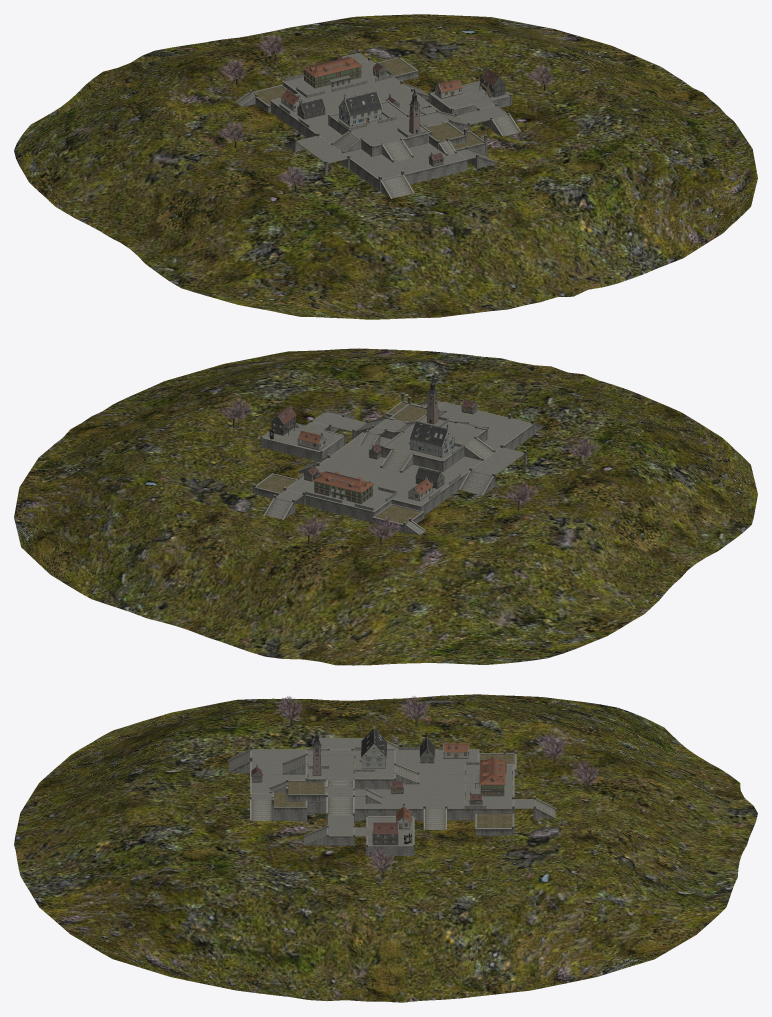
3 views of the same model, one above another, from view 1: azimuth 30°, elevation 25°; view 2: azimuth 150°, elevation 25°; view 3: azimuth 270°, elevation 25° (orthographic). The views are drawn at different scales.
Parts seen in each view (by area): view 1: Plane_0, Base_02_LOD0_0_1, mansion_LOD0_2_9, mansion_LOD0_3_10, Zone_A_House_Huge_A_LOD0_1_30; view 2: Plane_0, Base_02_LOD0_0_1, mansion_LOD0_2_9, mansion_LOD0_3_10, Zone_A_House_Huge_A_LOD0_1_30; view 3: Plane_0, Base_02_LOD0_0_1, mansion_LOD0_2_9.
Part boxes in pixels (x1=…): Plane_0: x1=14, y1=14, x2=757, y2=319; Base_02_LOD0_0_1: x1=236, y1=49, x2=521, y2=198; mansion_LOD0_2_9: x1=302, y1=56, x2=362, y2=86; mansion_LOD0_3_10: x1=303, y1=56, x2=362, y2=88; Zone_A_House_Huge_A_LOD0_1_30: x1=345, y1=91, x2=381, y2=115; Plane_0: x1=14, y1=348, x2=757, y2=665; Base_02_LOD0_0_1: x1=252, y1=392, x2=544, y2=535; mansion_LOD0_2_9: x1=312, y1=471, x2=374, y2=500; mansion_LOD0_3_10: x1=313, y1=474, x2=373, y2=504; Zone_A_House_Huge_A_LOD0_1_30: x1=409, y1=421, x2=447, y2=446; Plane_0: x1=14, y1=694, x2=757, y2=1002; Base_02_LOD0_0_1: x1=227, y1=735, x2=557, y2=856; mansion_LOD0_2_9: x1=475, y1=757, x2=505, y2=788.
Bounding box in the file's own units: 2721 × 478 × 2787.
41 materials, 40 textured.
